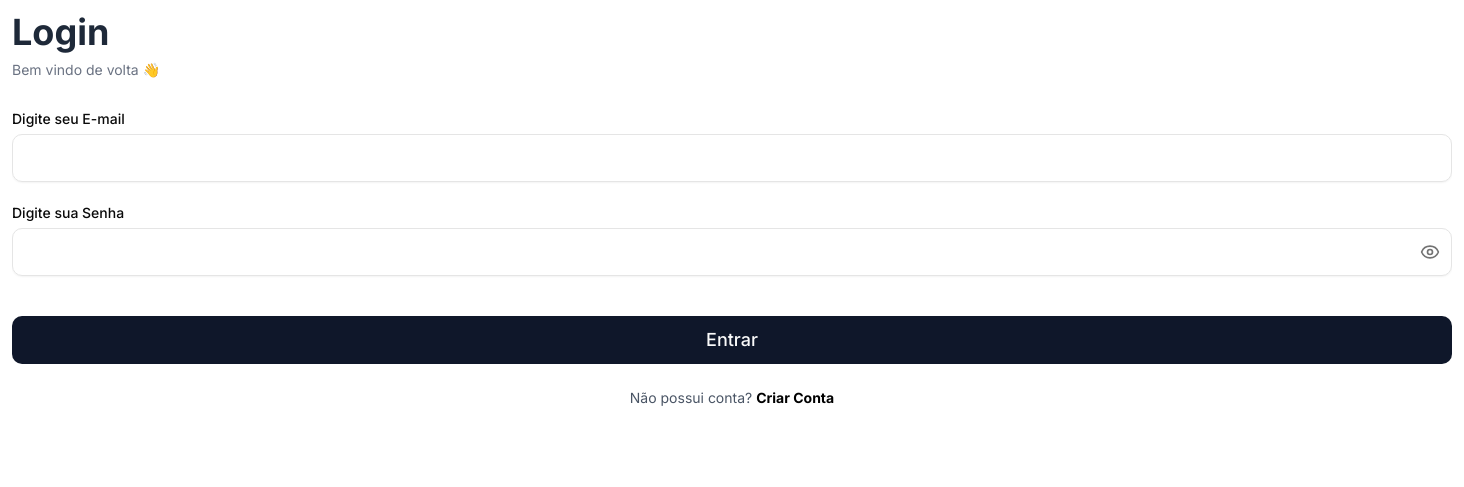
Test case: LoginForm › should display validation errors if submitting empty form
Click the button "Entrar" at (732, 340), box [12,316,1452,364]
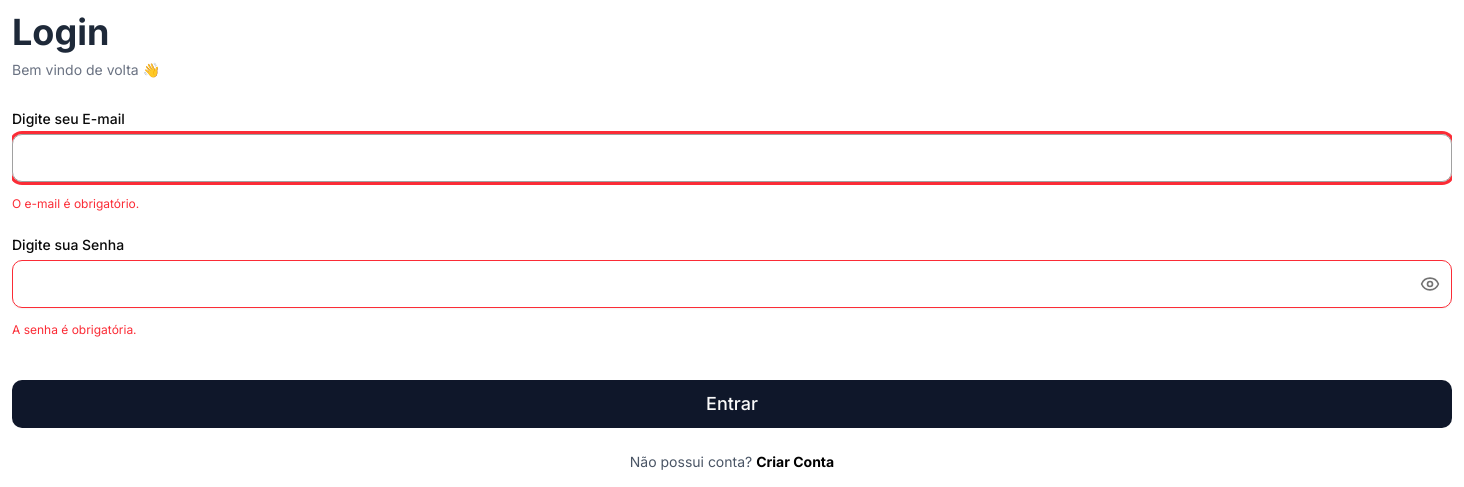
Expected: the text "O e-mail é obrigatório." is shown, [12,196,139,211]
Expected: the text "A senha é obrigatória." is shown, [12,322,137,337]
